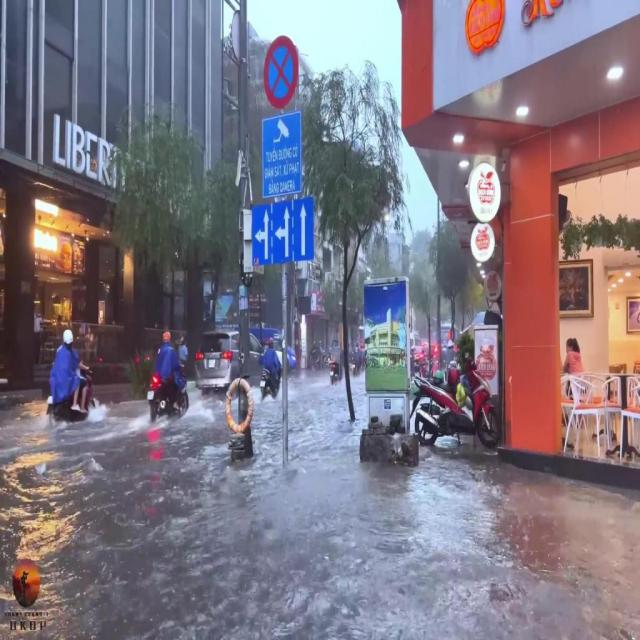cam_dung_xe_va_do_xe: (264, 35, 298, 110)
huong_di_tren_moi_lan_duong_theo_vach_ke_duong: (252, 197, 314, 267)
